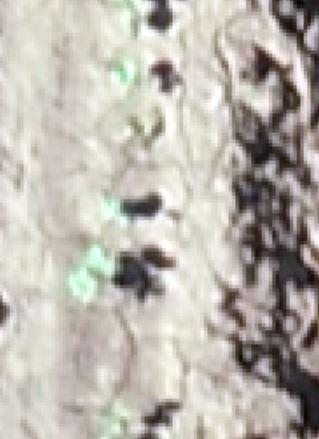cotton: (113, 60, 141, 87), (121, 1, 146, 30), (74, 269, 98, 298), (92, 247, 116, 275), (104, 195, 120, 218)
